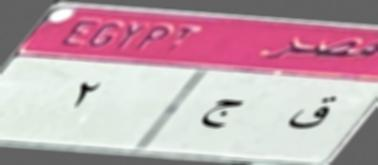2: (68, 74, 102, 114)
jeem: (197, 90, 244, 138)
qaaf: (286, 90, 337, 138)
